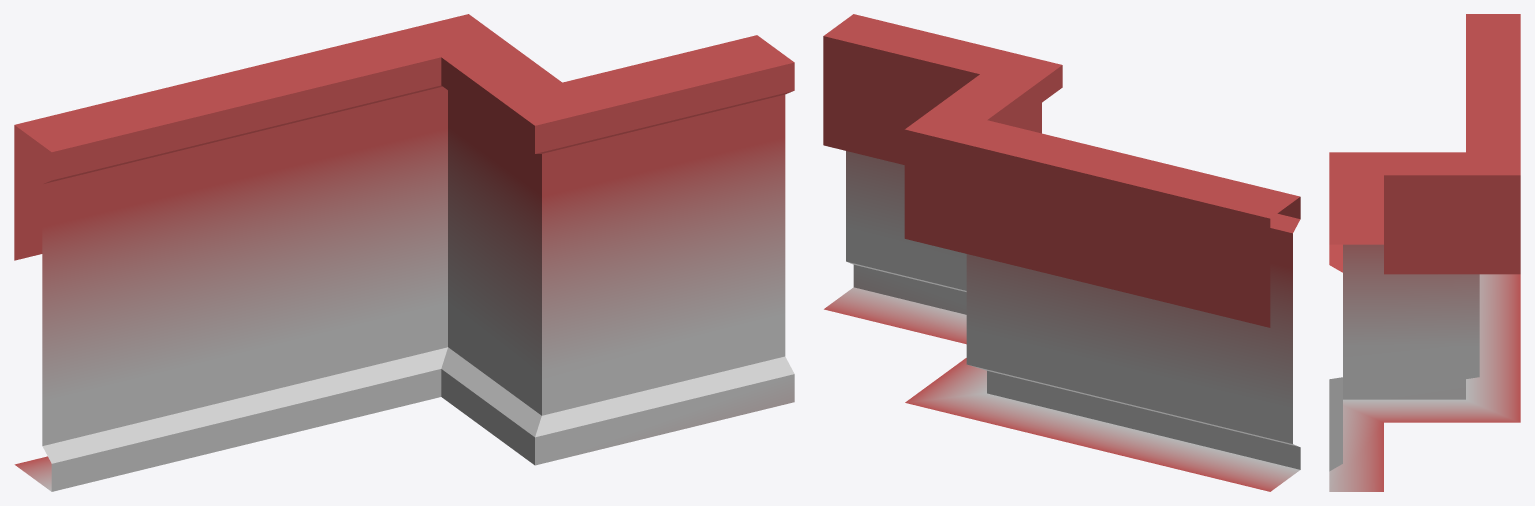
File: Cornice_Metal_90Angle_R.gltf
3 views of the same model, side by side, from view 1: azimuth 30°, elevation 25°; view 2: azimuth 150°, elevation 25°; view 3: azimuth 270°, elevation 25° (orthographic). The views are drawn at different scales.
Parts seen in each view (by area): view 1: Cornice_Metal_90Angle_R; view 2: Cornice_Metal_90Angle_R; view 3: Cornice_Metal_90Angle_R.
Boxes of the visible parts, box(x1,y1,x2,y2) form: Cornice_Metal_90Angle_R: box(14, 14, 794, 491); Cornice_Metal_90Angle_R: box(823, 14, 1300, 491); Cornice_Metal_90Angle_R: box(1329, 14, 1520, 491).
Size of what is drawn, in the model's own units: 2 by 1 by 0.7.
